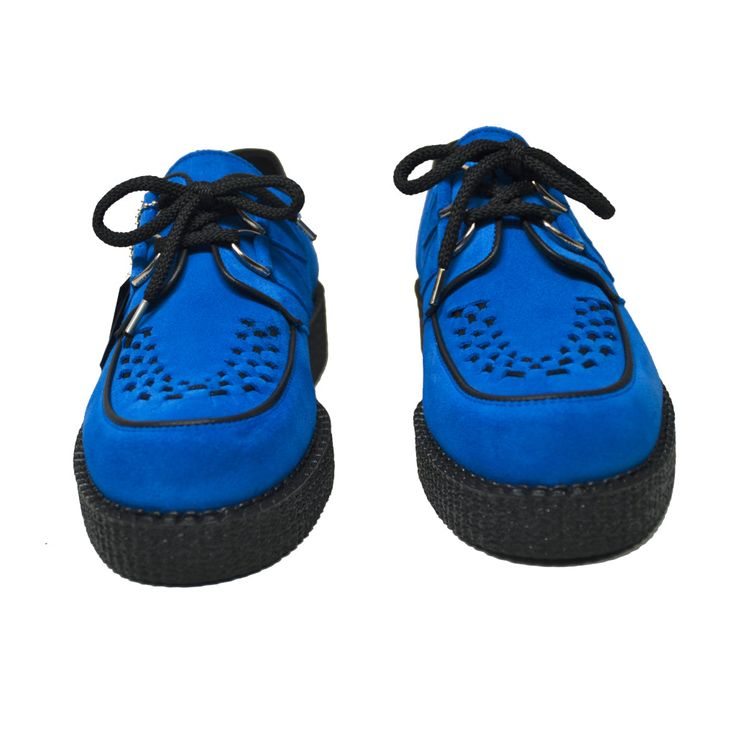gamuza: (82, 127, 663, 512)
